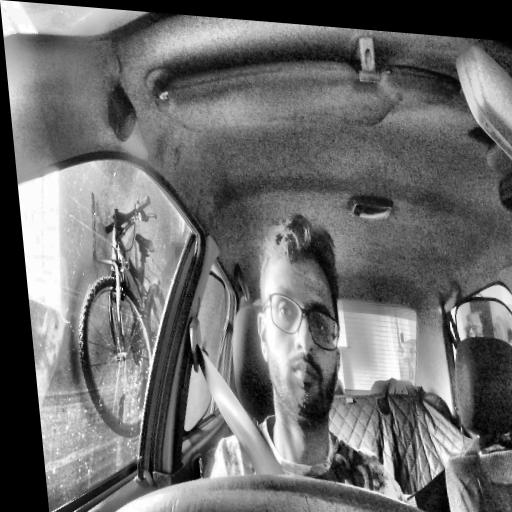awake: (246, 211, 355, 435)
